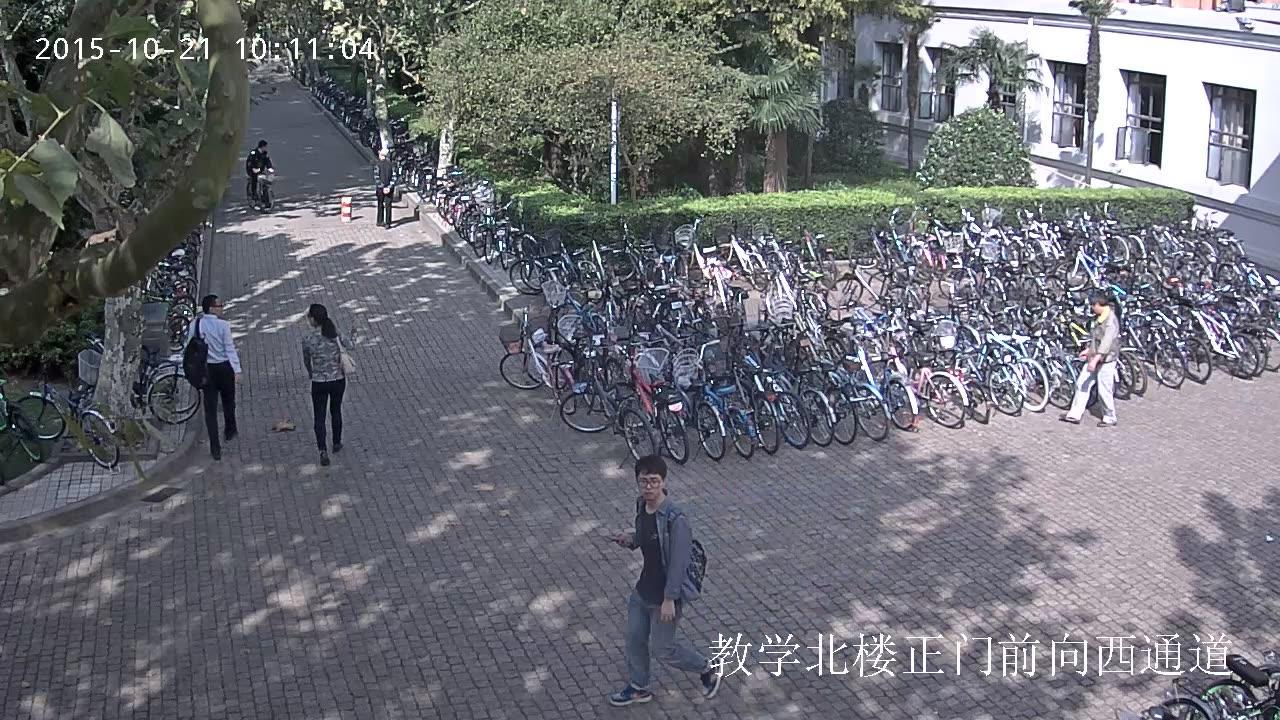person: (598, 455, 726, 707), (183, 293, 243, 460), (302, 302, 357, 466), (1061, 289, 1121, 427), (246, 139, 272, 212), (375, 147, 393, 227), (246, 139, 272, 194)
